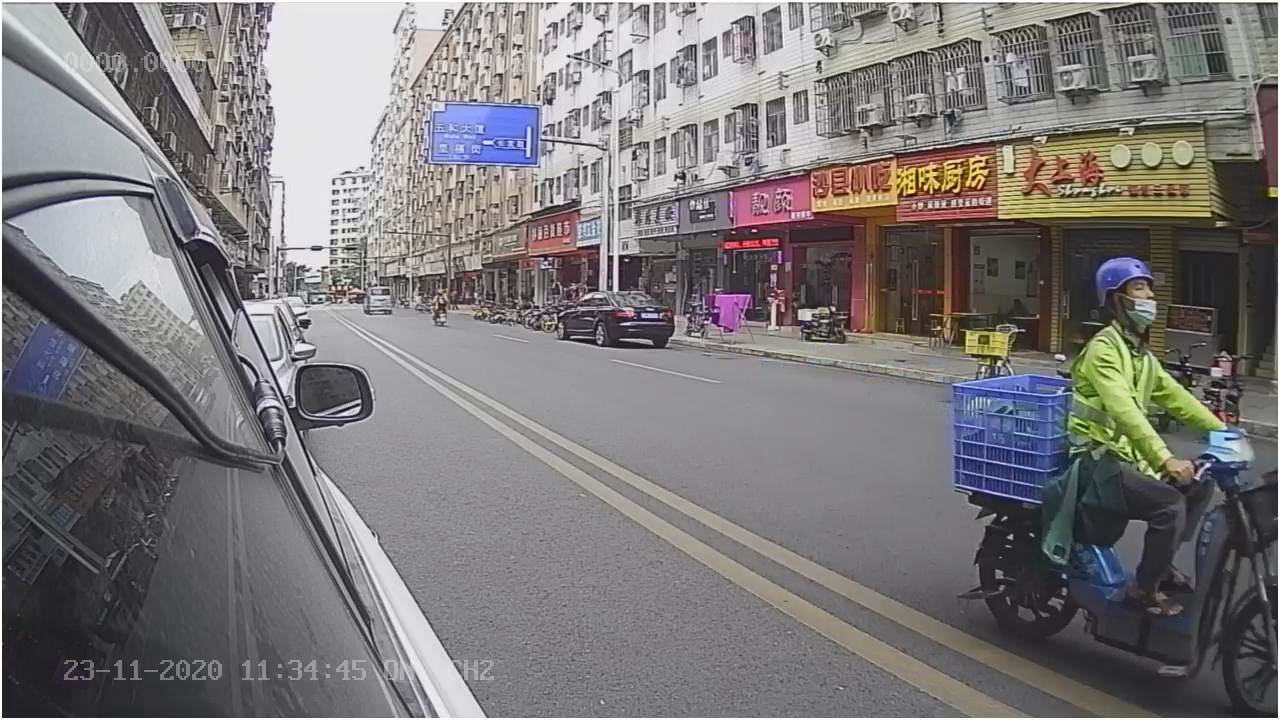person: (1063, 239, 1221, 477)
